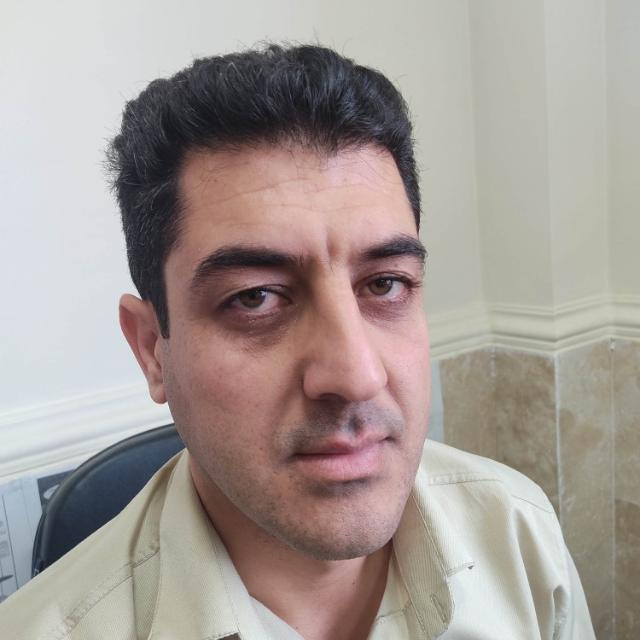forehead: (239, 173, 305, 200), (317, 173, 357, 193)
frown_line: (318, 240, 342, 272)
